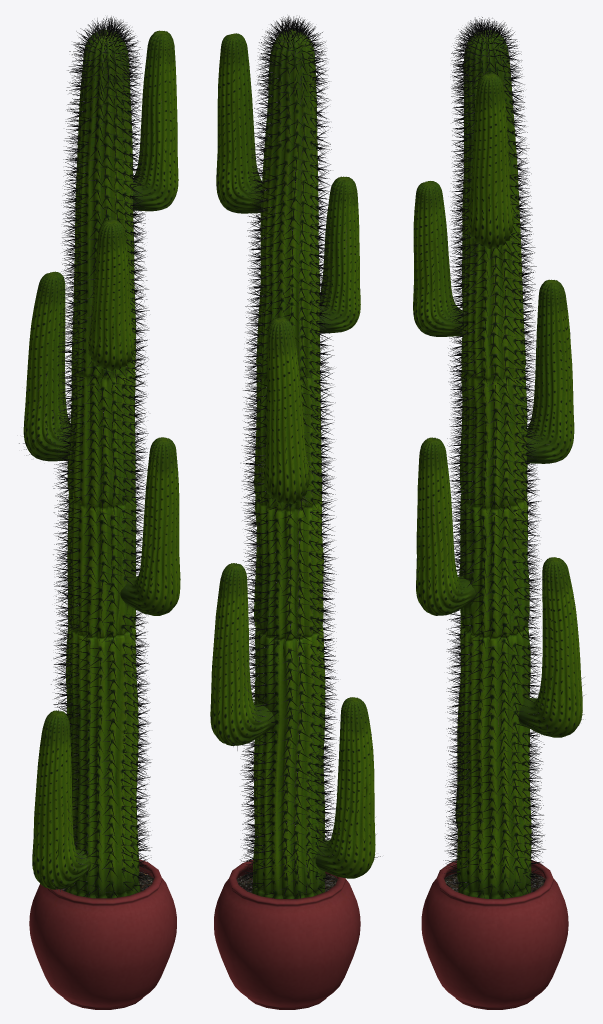
Rendered from plant_26.glb.
3 views of the same model, side by side, from view 1: azimuth 30°, elevation 25°; view 2: azimuth 150°, elevation 25°; view 3: azimuth 270°, elevation 25° (orthographic).
Visible parts, largest first — view 1: Plants_VOL02_13; view 2: Plants_VOL02_13; view 3: Plants_VOL02_13.
Boxes of the visible parts, box(x1,y1,x2,y2) form: Plants_VOL02_13: box(19, 16, 180, 1009); Plants_VOL02_13: box(210, 16, 380, 1009); Plants_VOL02_13: box(413, 17, 584, 1009).
Size of the model in its own units: 0.2338 by 1.44 by 0.2352.
Materials: 1 (1 with a texture image).
